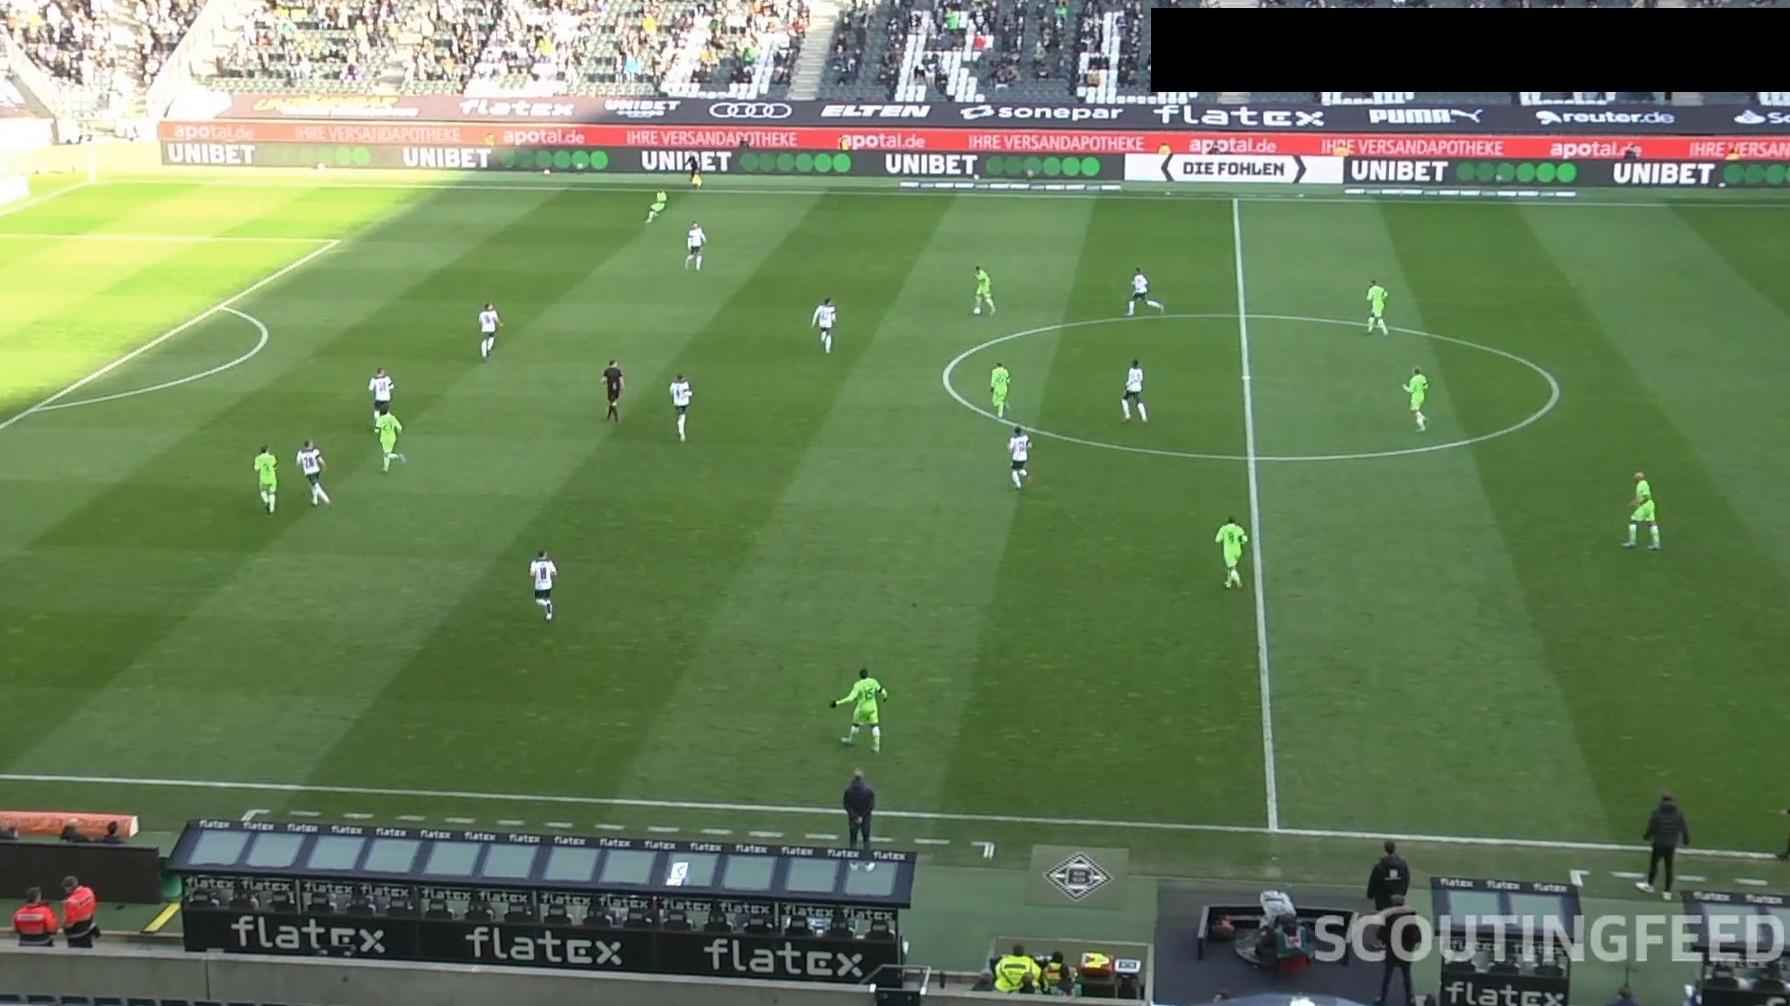ball: (971, 305, 984, 316)
